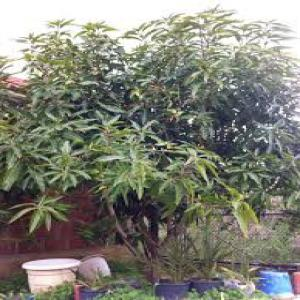Tree: (22, 6, 294, 288)
